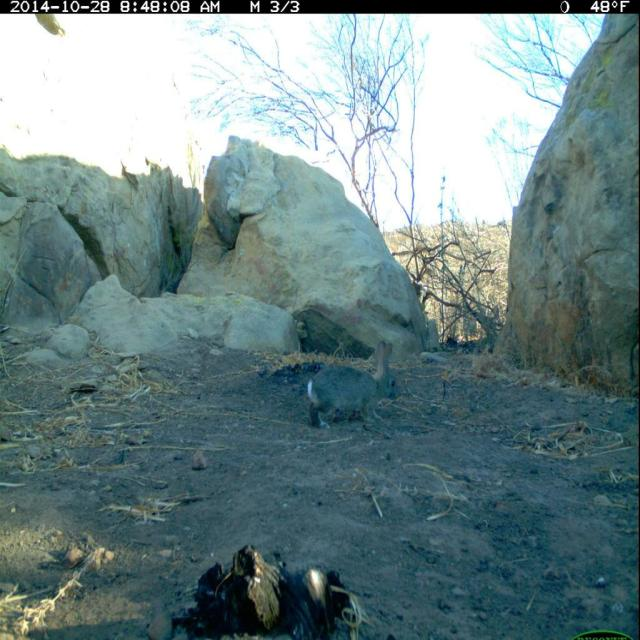rabbit: (303, 336, 406, 433)
